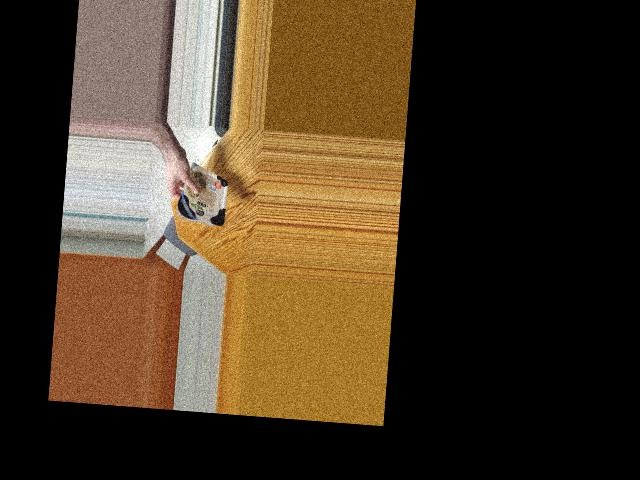cheese: (183, 166, 224, 227)
